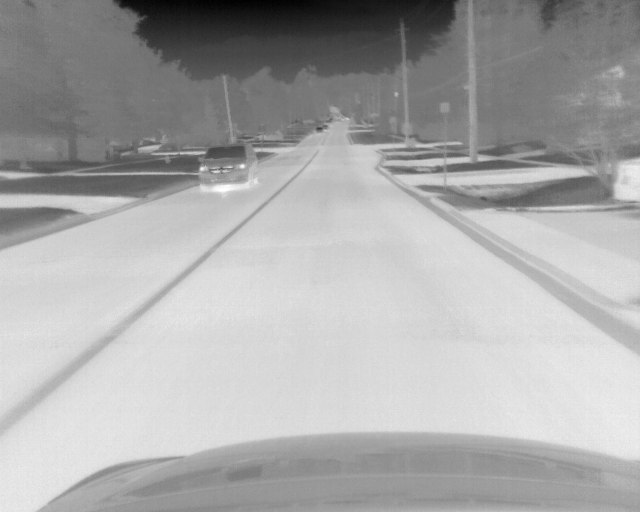car: (195, 142, 260, 190), (614, 154, 640, 205)
